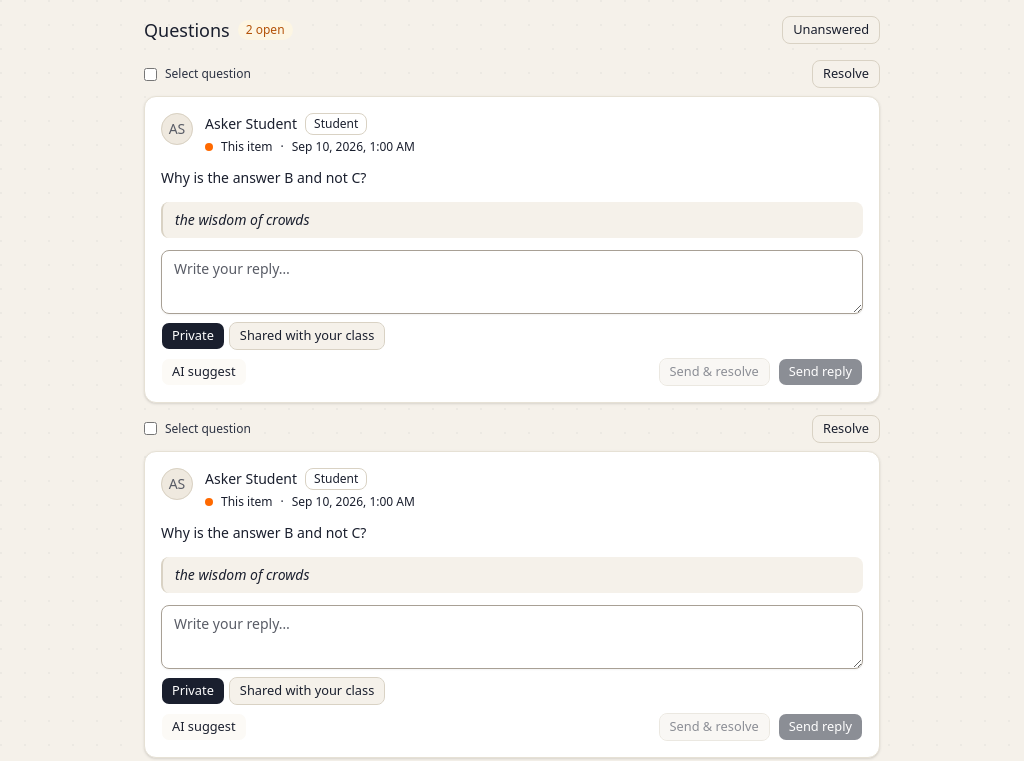
Test: QuestionsConsolePage — batch (AC10 all-or-nothing) › a 404 surfaces the all-or-nothing error, no partial mutation (AC10)
Check: the element with test id "teacher-question-q1" is shown, box left=144, top=60, right=880, bottom=403
Click the checkbox with test id "teacher-question-q1-select" at (150, 74), box left=144, top=68, right=157, bottom=80
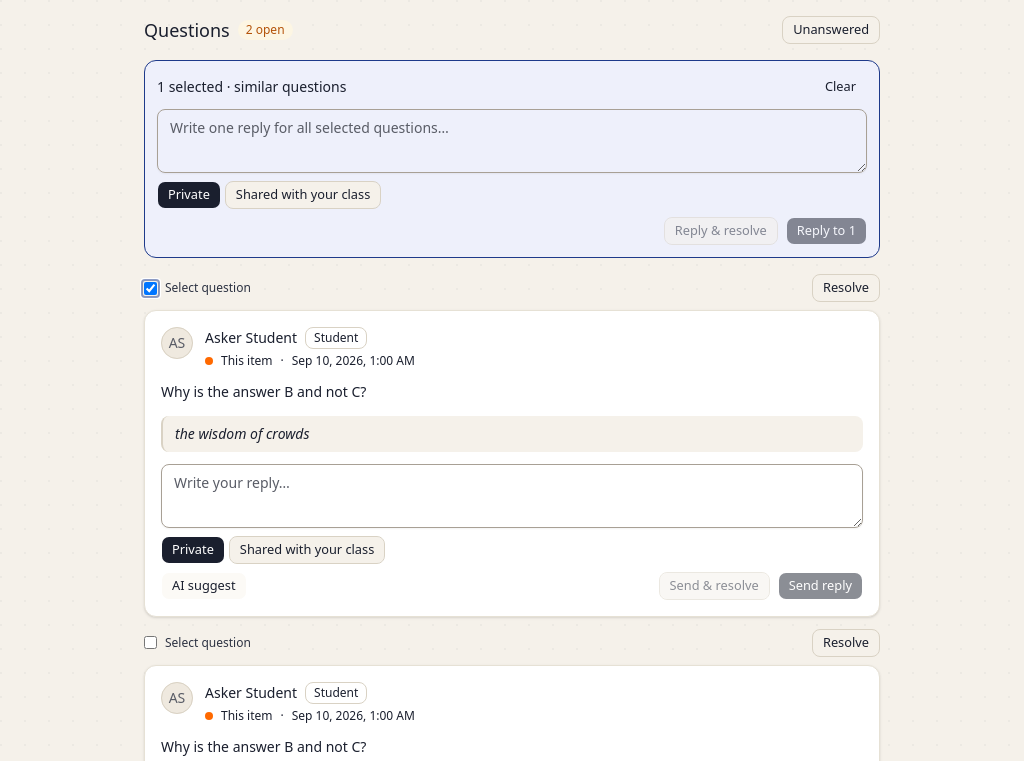
Click the checkbox with test id "teacher-question-q2-select" at (150, 643), box left=144, top=636, right=157, bottom=649
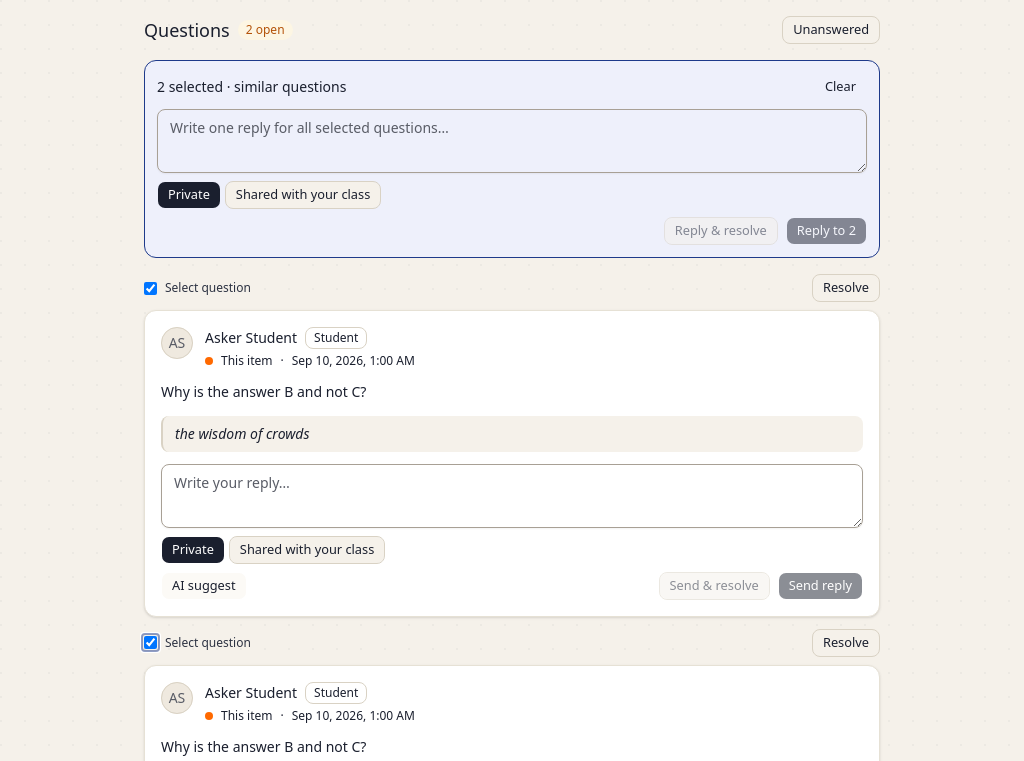
Type "One reply for all" into the text box with test id "batch-action-bar-content" at (512, 141), box left=157, top=109, right=867, bottom=173
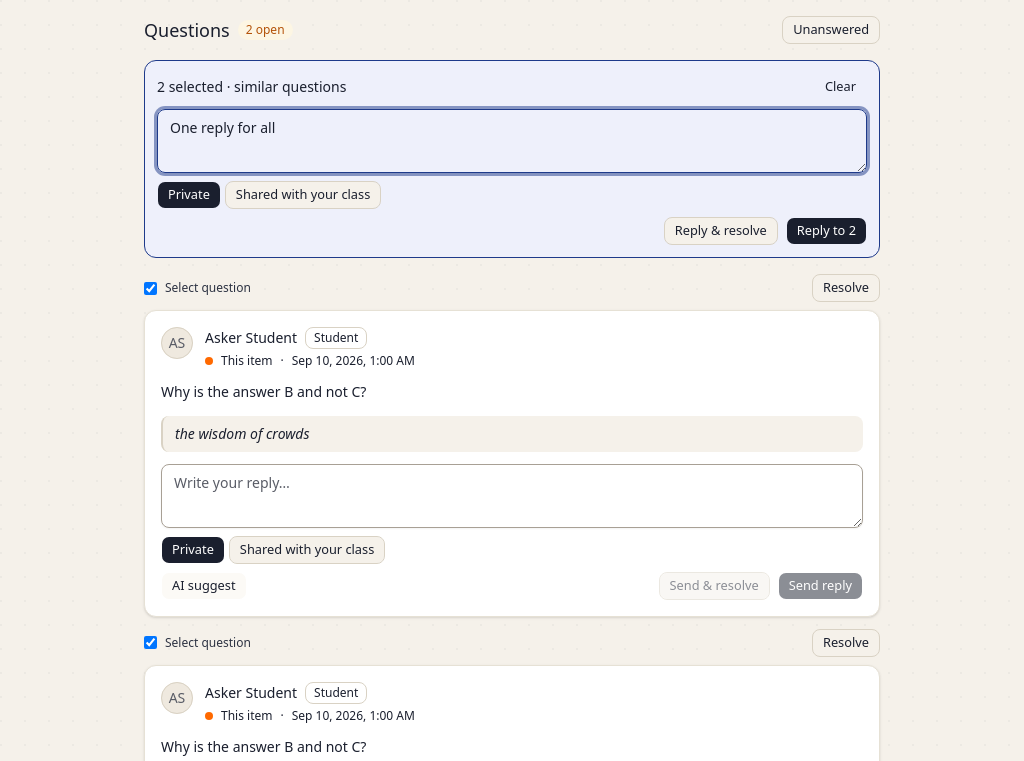
Click the button with test id "batch-action-bar-reply" at (826, 231), box left=786, top=217, right=867, bottom=245
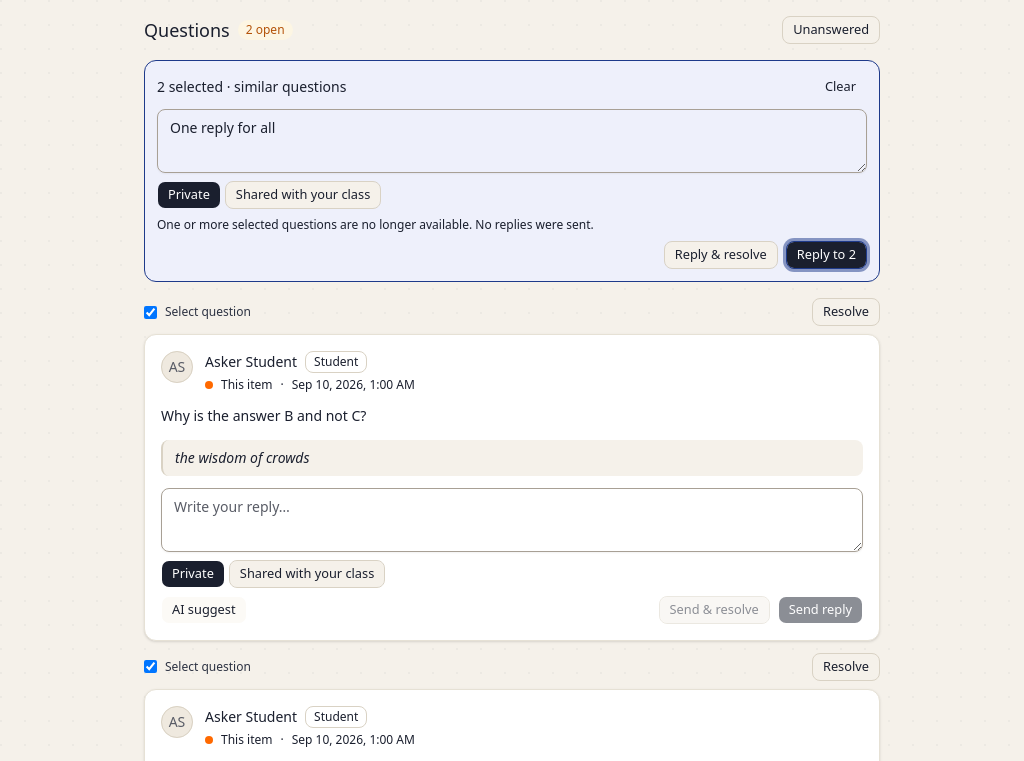
Check: the element with test id "batch-action-bar" is shown, box left=144, top=60, right=880, bottom=282
Check: the message "One or more selected questions are no longer available. No replies were sent." is shown, box left=157, top=216, right=594, bottom=233
